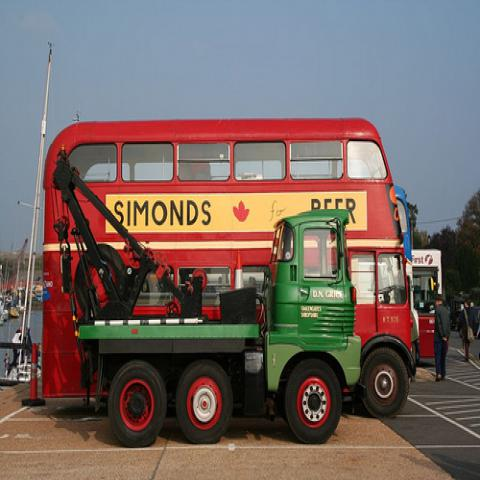bus: (40, 120, 413, 424)
truck: (50, 143, 368, 447)
